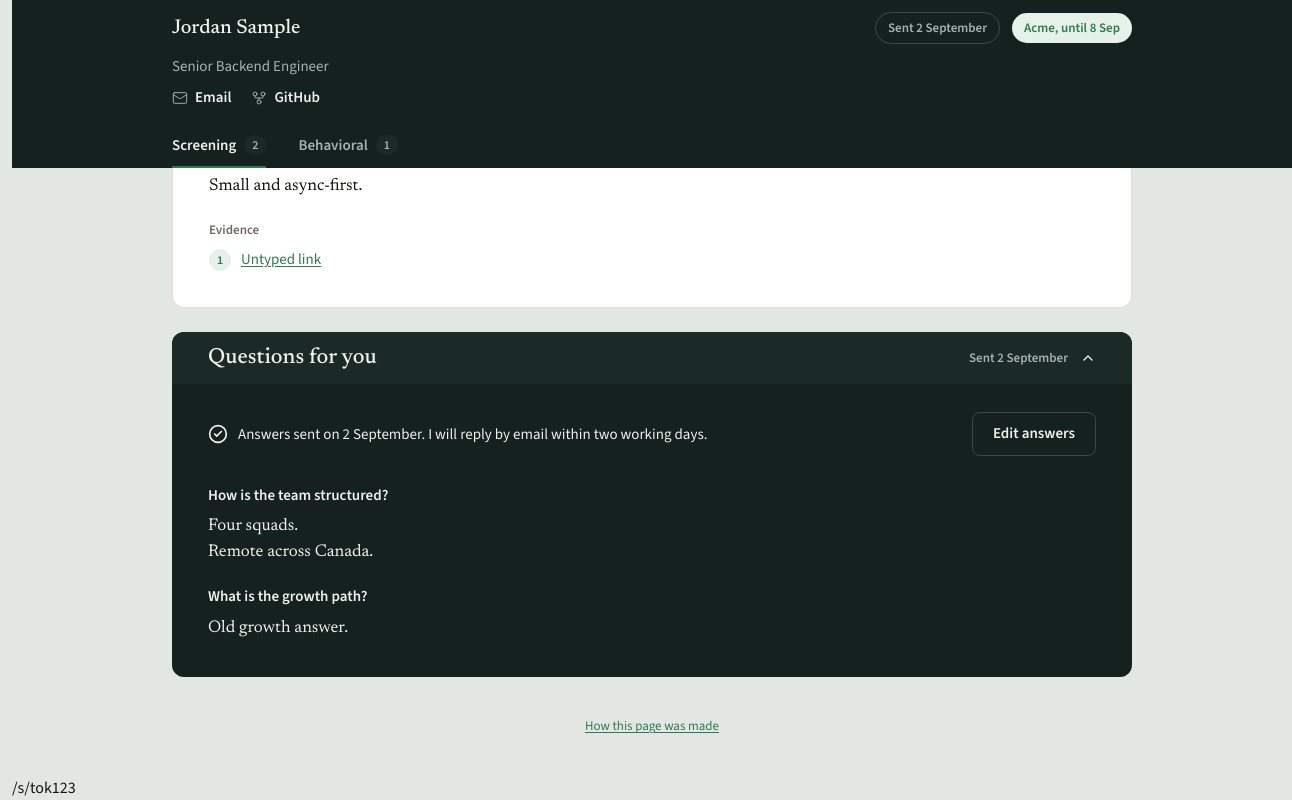
Test: answer drafts and editing › reads saved answers with their snapshot, edits current questions, and replaces the submission
(page scrolled)
Expected: the text "How is the team structured?" is shown, [208,485,388,505]
Expected: the text "Old growth answer." is shown, [208,620,348,637]
Click the button "Edit answers" at (1034,434), box [972,412,1096,456]
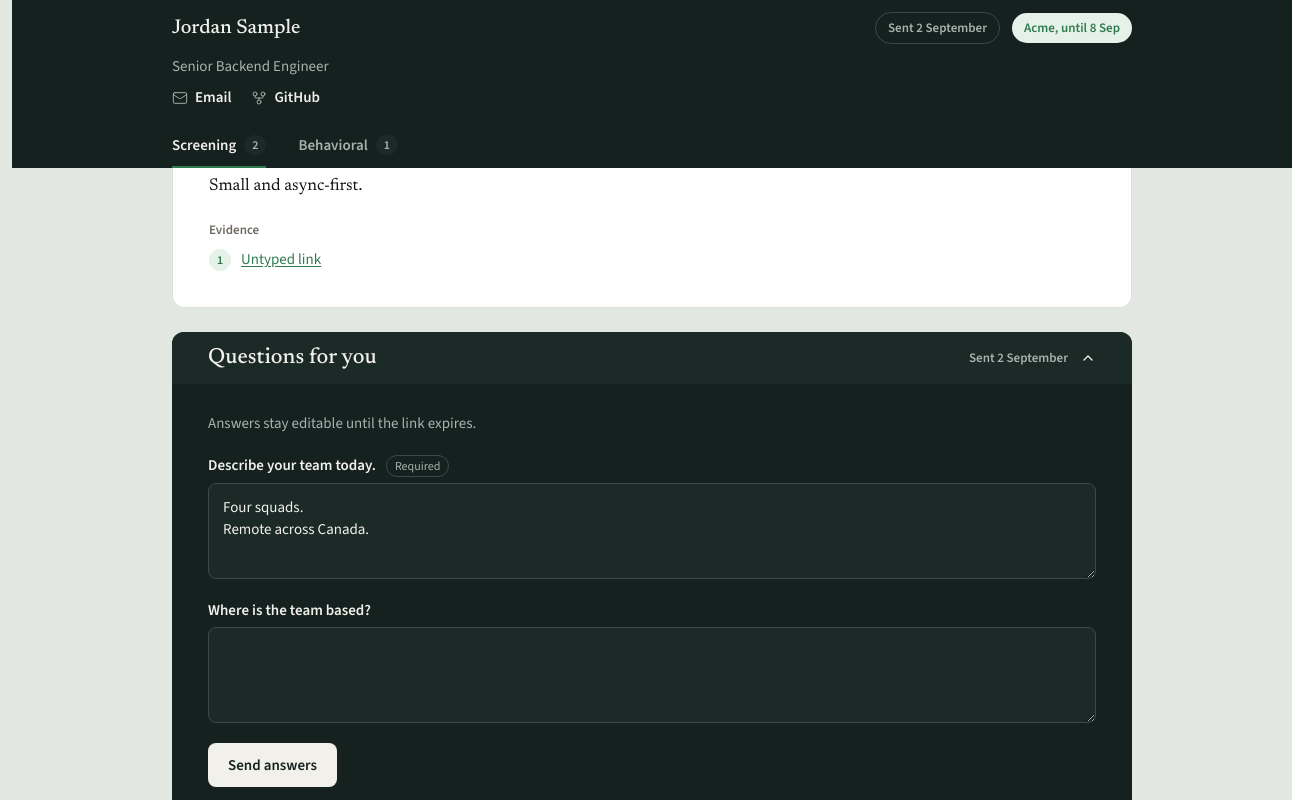
Expected: the text "What is the growth path?" is gone
Replace the text in the text box labelled "Describe your team today. Required" with "Five squads." at (652,531), box [208,483,1096,579]
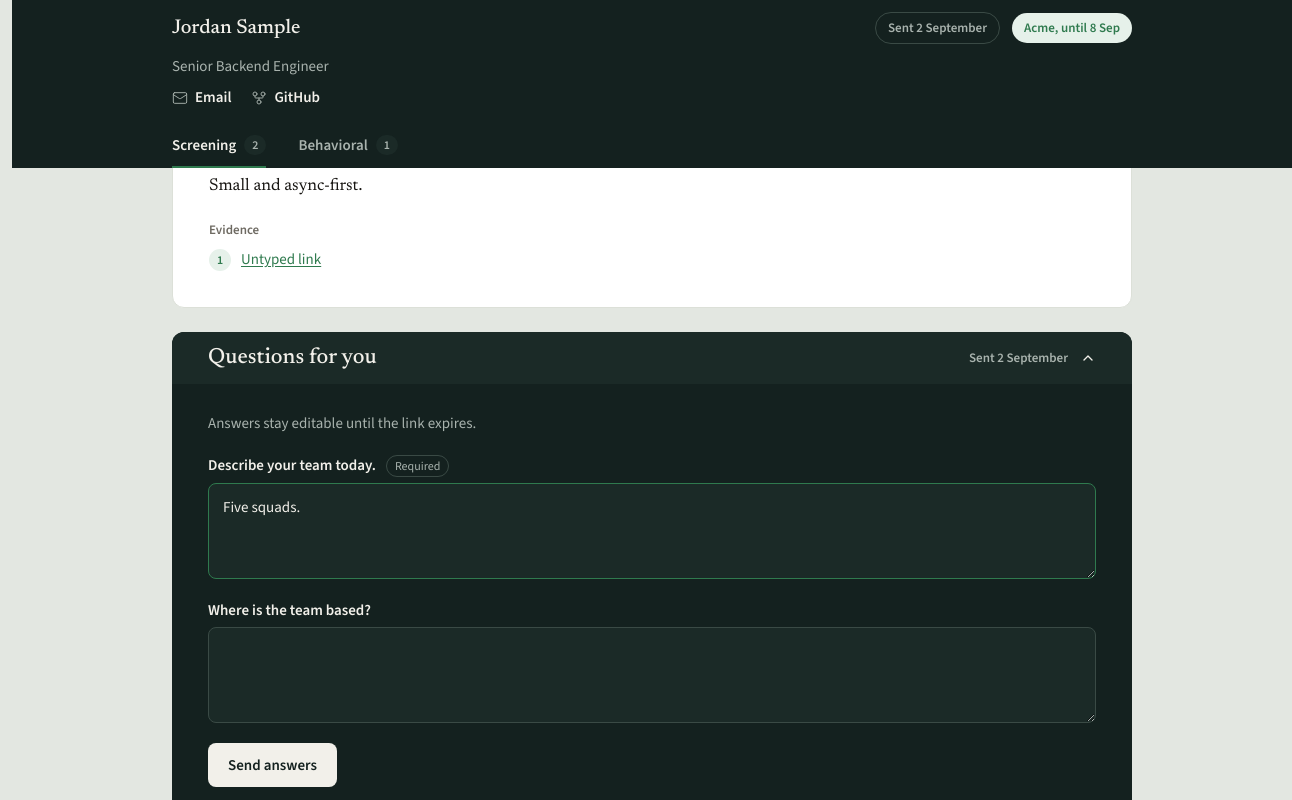
Click the button "Send answers" at (272,765), box [208,743,337,787]
(page scrolled)
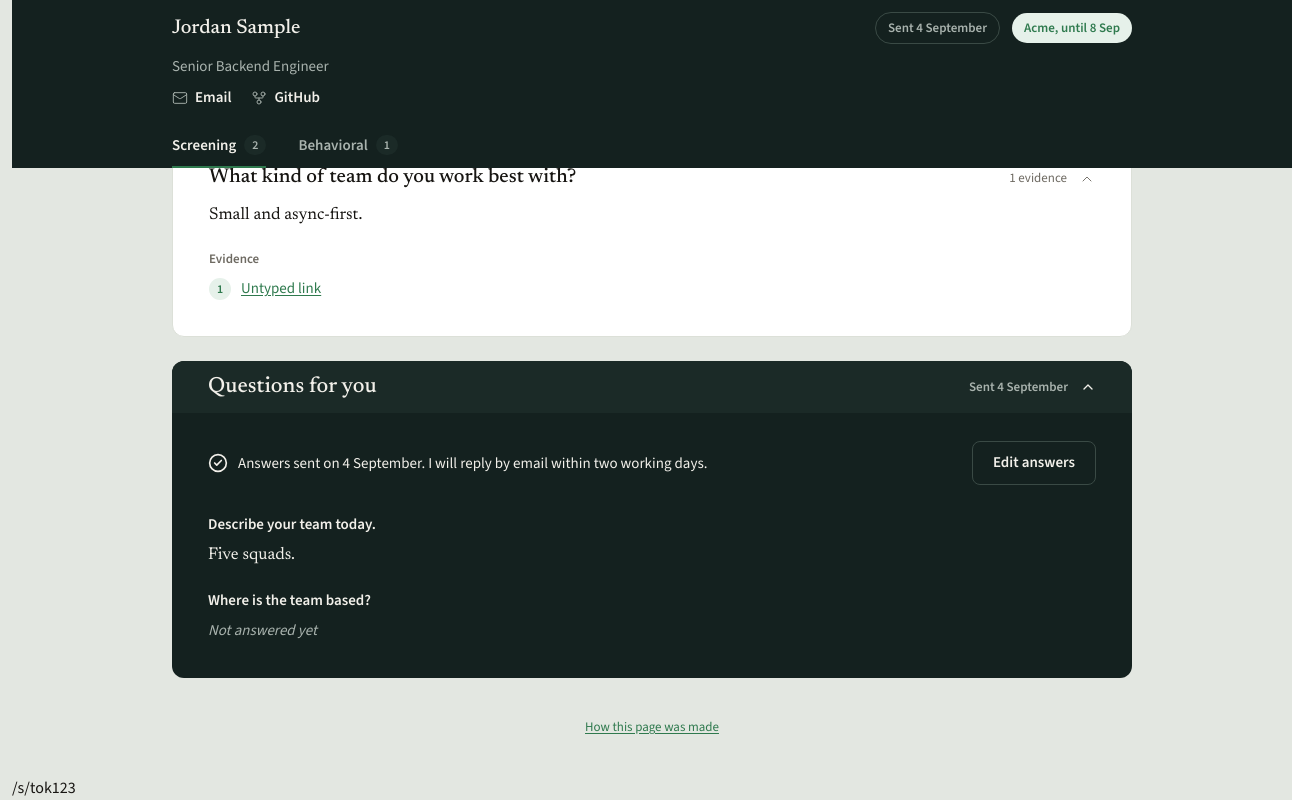
Expected: the text "Describe your team today." is shown, [208,514,376,534]
Expected: the message shows "4 September", [320,453,421,473]
Expected: the text "Five squads." is shown, [208,547,295,564]
